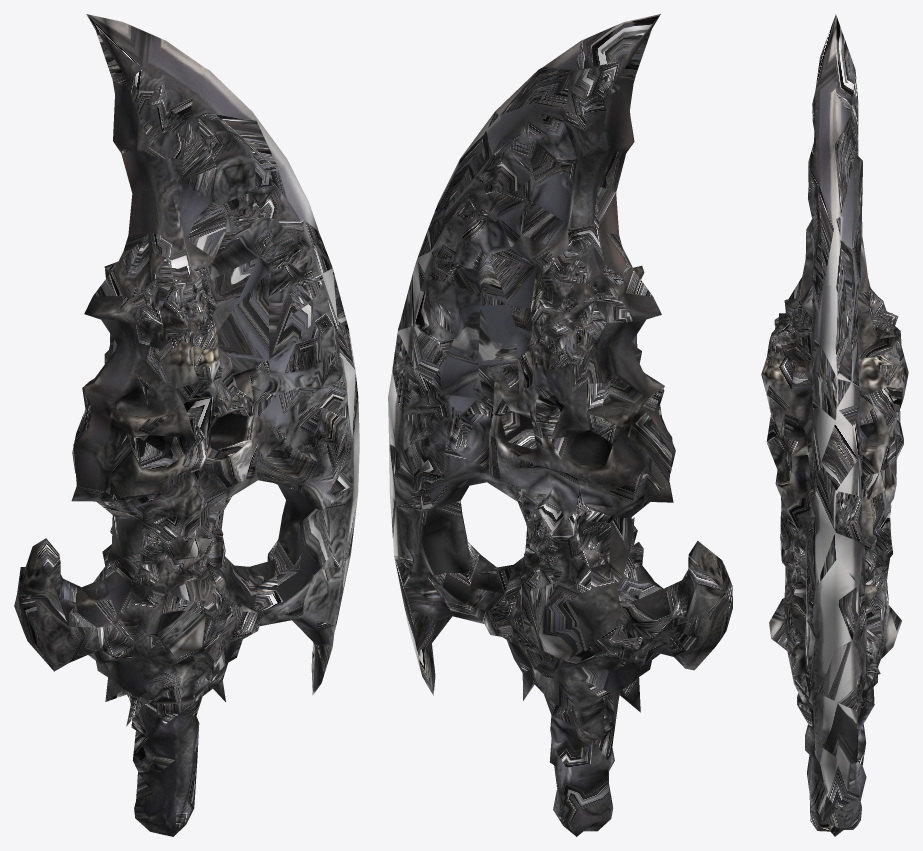
Rendered from 425_w_sword_skull.glb.
The picture shows the model from 3 angles, left to right: view 1: azimuth 30°, elevation 25°; view 2: azimuth 150°, elevation 25°; view 3: azimuth 270°, elevation 25°; orthographic projection. The views are drawn at different scales.
Visible parts, largest first — view 1: Model; view 2: Model; view 3: Model.
Part boxes in pixels (box(x1,y1,x2,y2)): Model: box(14, 14, 359, 836); Model: box(388, 14, 732, 836); Model: box(761, 14, 908, 836).
Size of the model in its own units: 0.4251 by 1 by 0.1709.
Materials: 1 (1 with a texture image).
